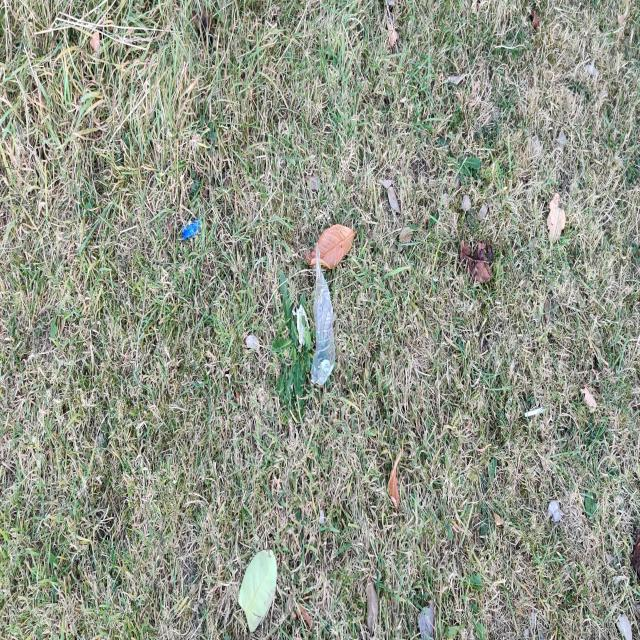litter: (312, 242, 335, 388), (296, 304, 309, 345), (184, 215, 200, 239), (548, 501, 562, 522)
